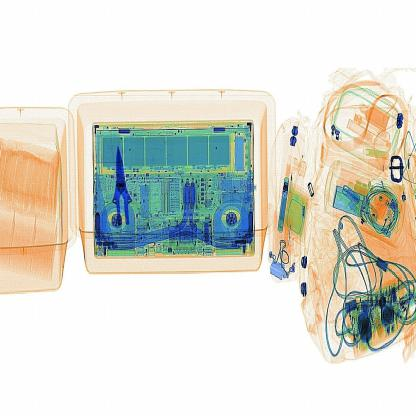gun: (97, 137, 154, 246)
